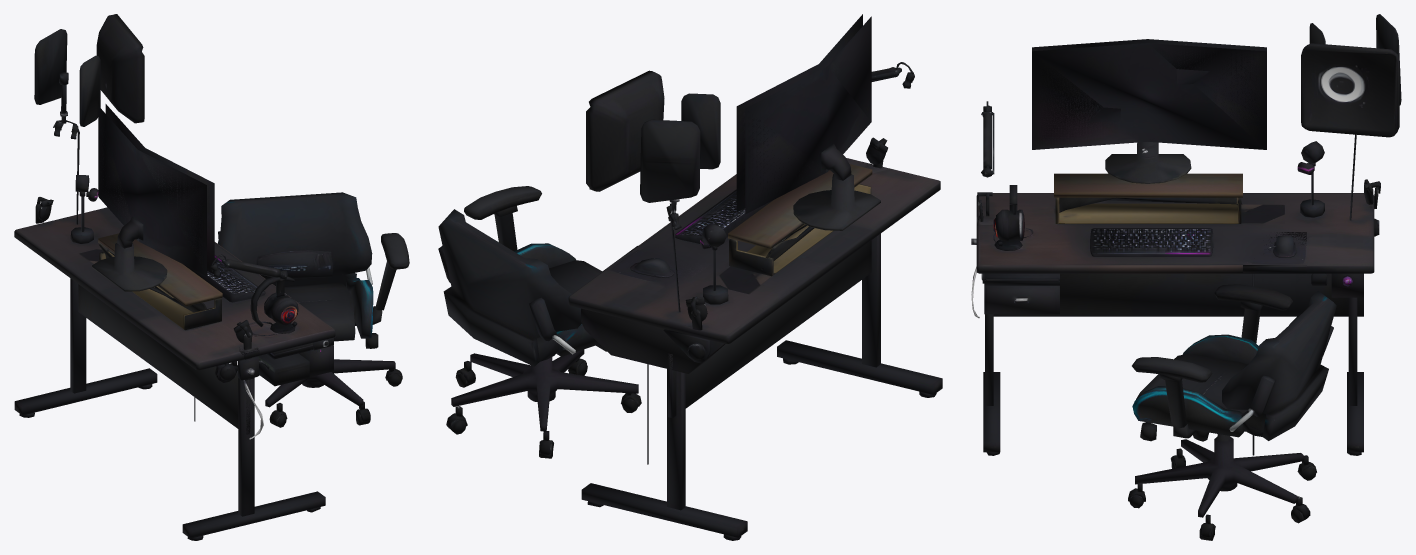
File: streamer-desk-setup.glb
The picture shows the model from 3 angles, left to right: view 1: azimuth 30°, elevation 25°; view 2: azimuth 150°, elevation 25°; view 3: azimuth 270°, elevation 25°; orthographic projection. The views are drawn at different scales.
Visible parts, largest first — view 1: tripo_node_2e30f249-9c8e-4c38-9ad5-b787684851a1; view 2: tripo_node_2e30f249-9c8e-4c38-9ad5-b787684851a1; view 3: tripo_node_2e30f249-9c8e-4c38-9ad5-b787684851a1.
Boxes of the visible parts, left/top/right/bottom form: tripo_node_2e30f249-9c8e-4c38-9ad5-b787684851a1: left=14, top=14, right=409, bottom=540; tripo_node_2e30f249-9c8e-4c38-9ad5-b787684851a1: left=438, top=14, right=942, bottom=540; tripo_node_2e30f249-9c8e-4c38-9ad5-b787684851a1: left=971, top=14, right=1401, bottom=540.
Bounding box in the file's own units: 0.9199 × 0.998 × 0.9863.
1 material, 1 textured.
